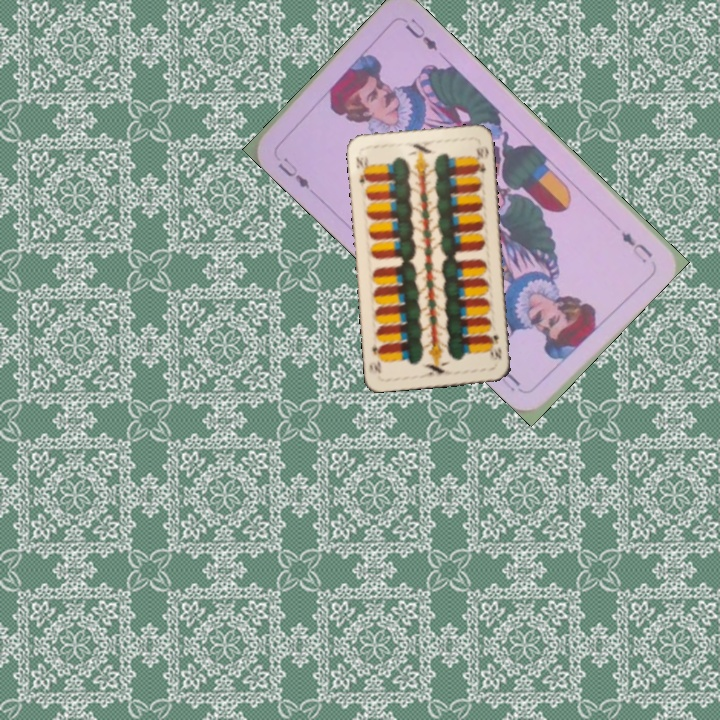E10: (352, 152, 371, 188), (485, 331, 504, 363)
EU: (274, 153, 313, 191), (617, 228, 656, 265)
